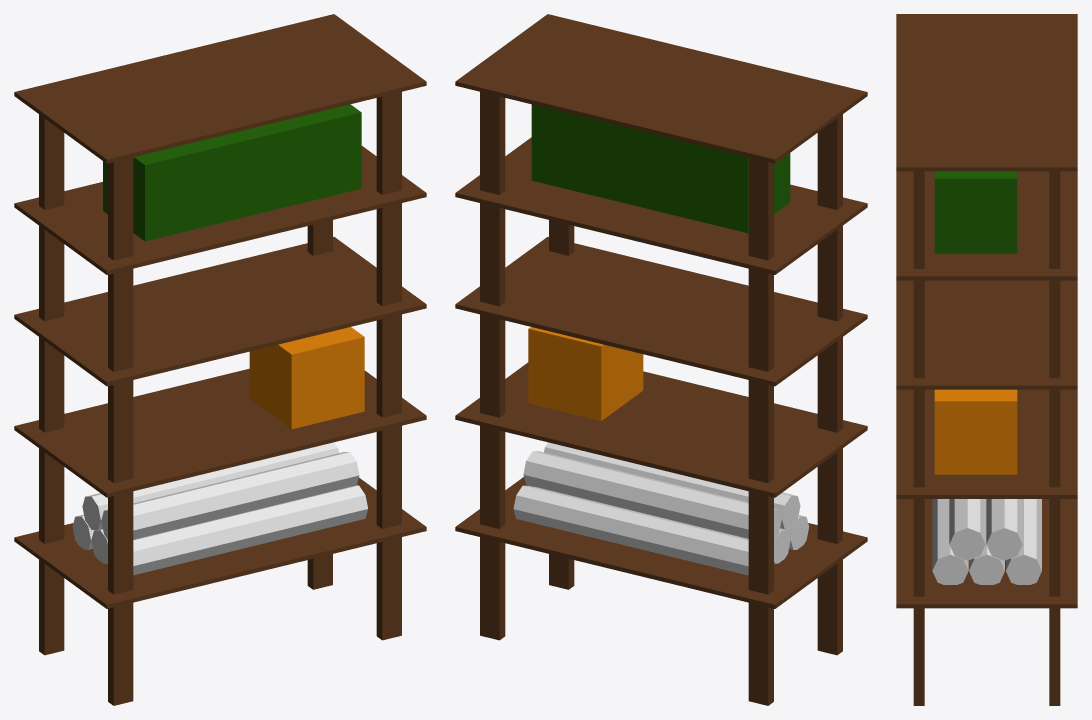
Rendered from TallShelf.fbx.
The picture shows the model from 3 angles, left to right: view 1: azimuth 30°, elevation 25°; view 2: azimuth 150°, elevation 25°; view 3: azimuth 270°, elevation 25°; orthographic projection.
Visible parts, largest first — view 1: Shelf Tall; view 2: Shelf Tall; view 3: Shelf Tall.
Part boxes in pixels (x1,y1,x2,y2): Shelf Tall: (14, 14, 426, 705); Shelf Tall: (455, 14, 867, 705); Shelf Tall: (896, 14, 1077, 705).
Bounding box in the file's own units: 400 × 665 × 200.
